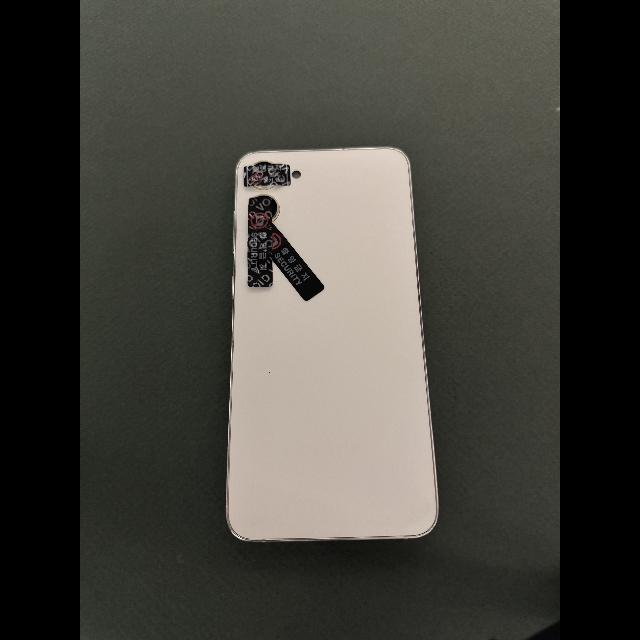lens: (255, 195, 278, 221), (253, 162, 271, 165)
phone: (227, 148, 438, 541)
sticker: (273, 223, 324, 301), (248, 197, 273, 288), (243, 164, 291, 188)
